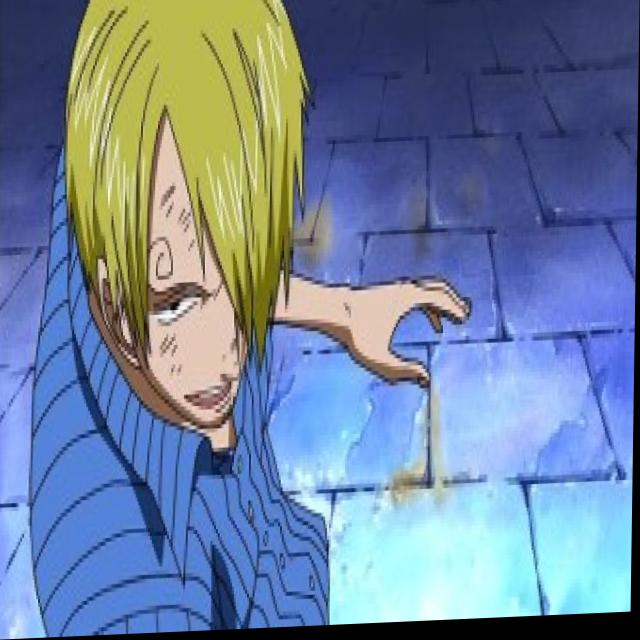Sangdi: (59, 0, 309, 444)
